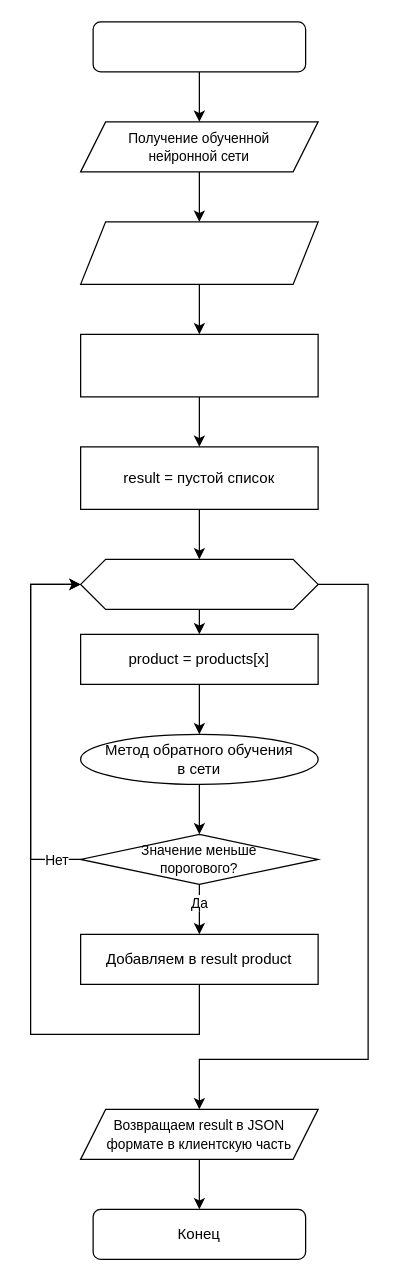
Image size: 400x1281. Some labels were removed from this diagram. Each missing label, with the centre of its shape:
"products = продукты пользователя, productsCount = количество продуктов" goes at [198,365].
"x=0;productsCount;1" goes at [198,583].
"Начало" goes at [199,46].
"Получение списка всех продуков из базы данных" goes at [198,252].
